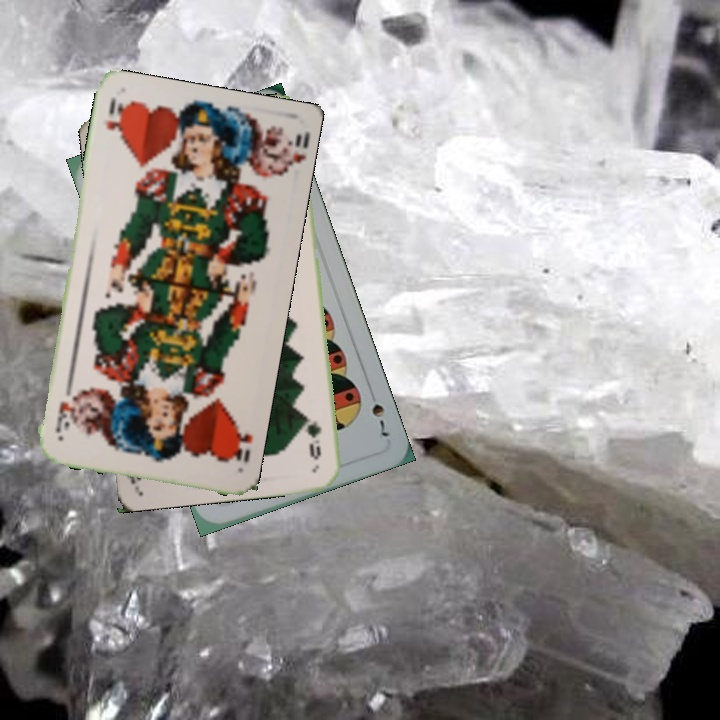G9: (302, 412, 324, 462)
HO: (225, 415, 255, 467), (101, 94, 127, 135)
S7: (367, 399, 393, 440)
